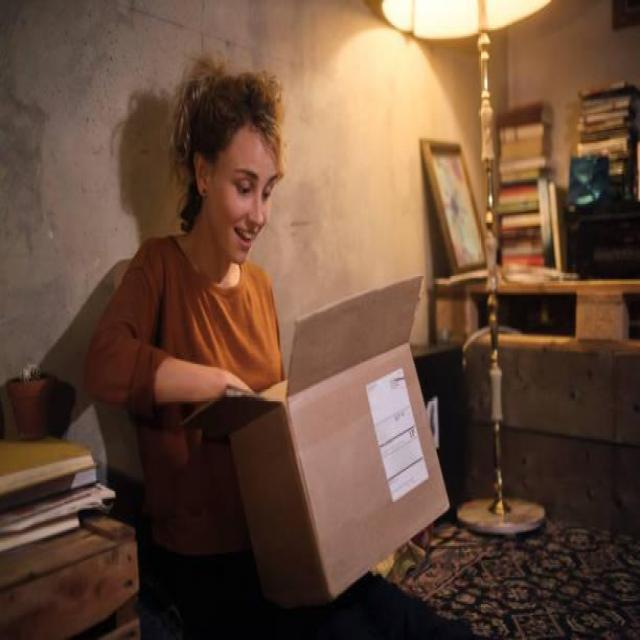box: (225, 290, 450, 606)
